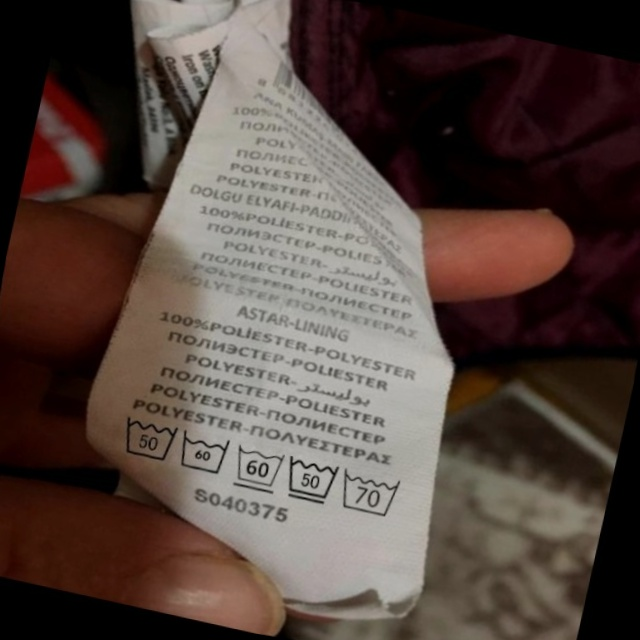50C: (111, 405, 186, 471), (277, 448, 346, 512)
60C: (227, 437, 293, 499), (172, 423, 238, 484)
70C: (334, 463, 410, 525)
